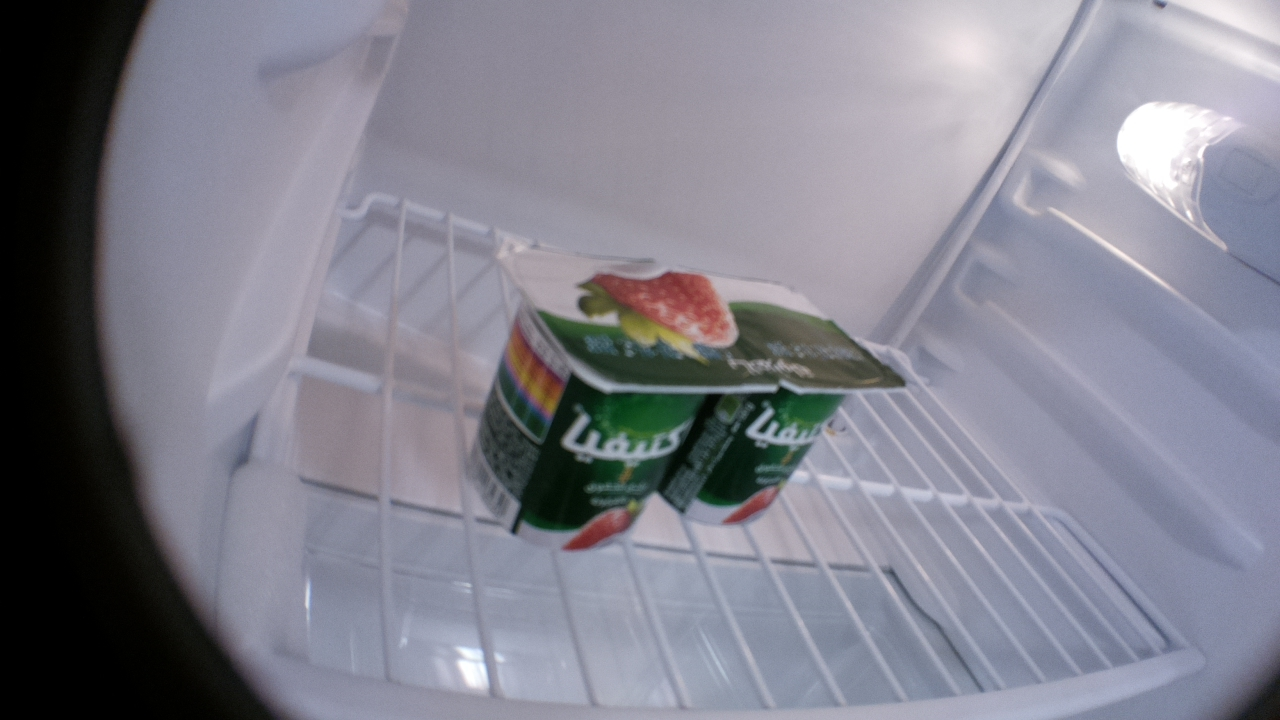yoghurt: (467, 246, 781, 553), (653, 264, 908, 531)
